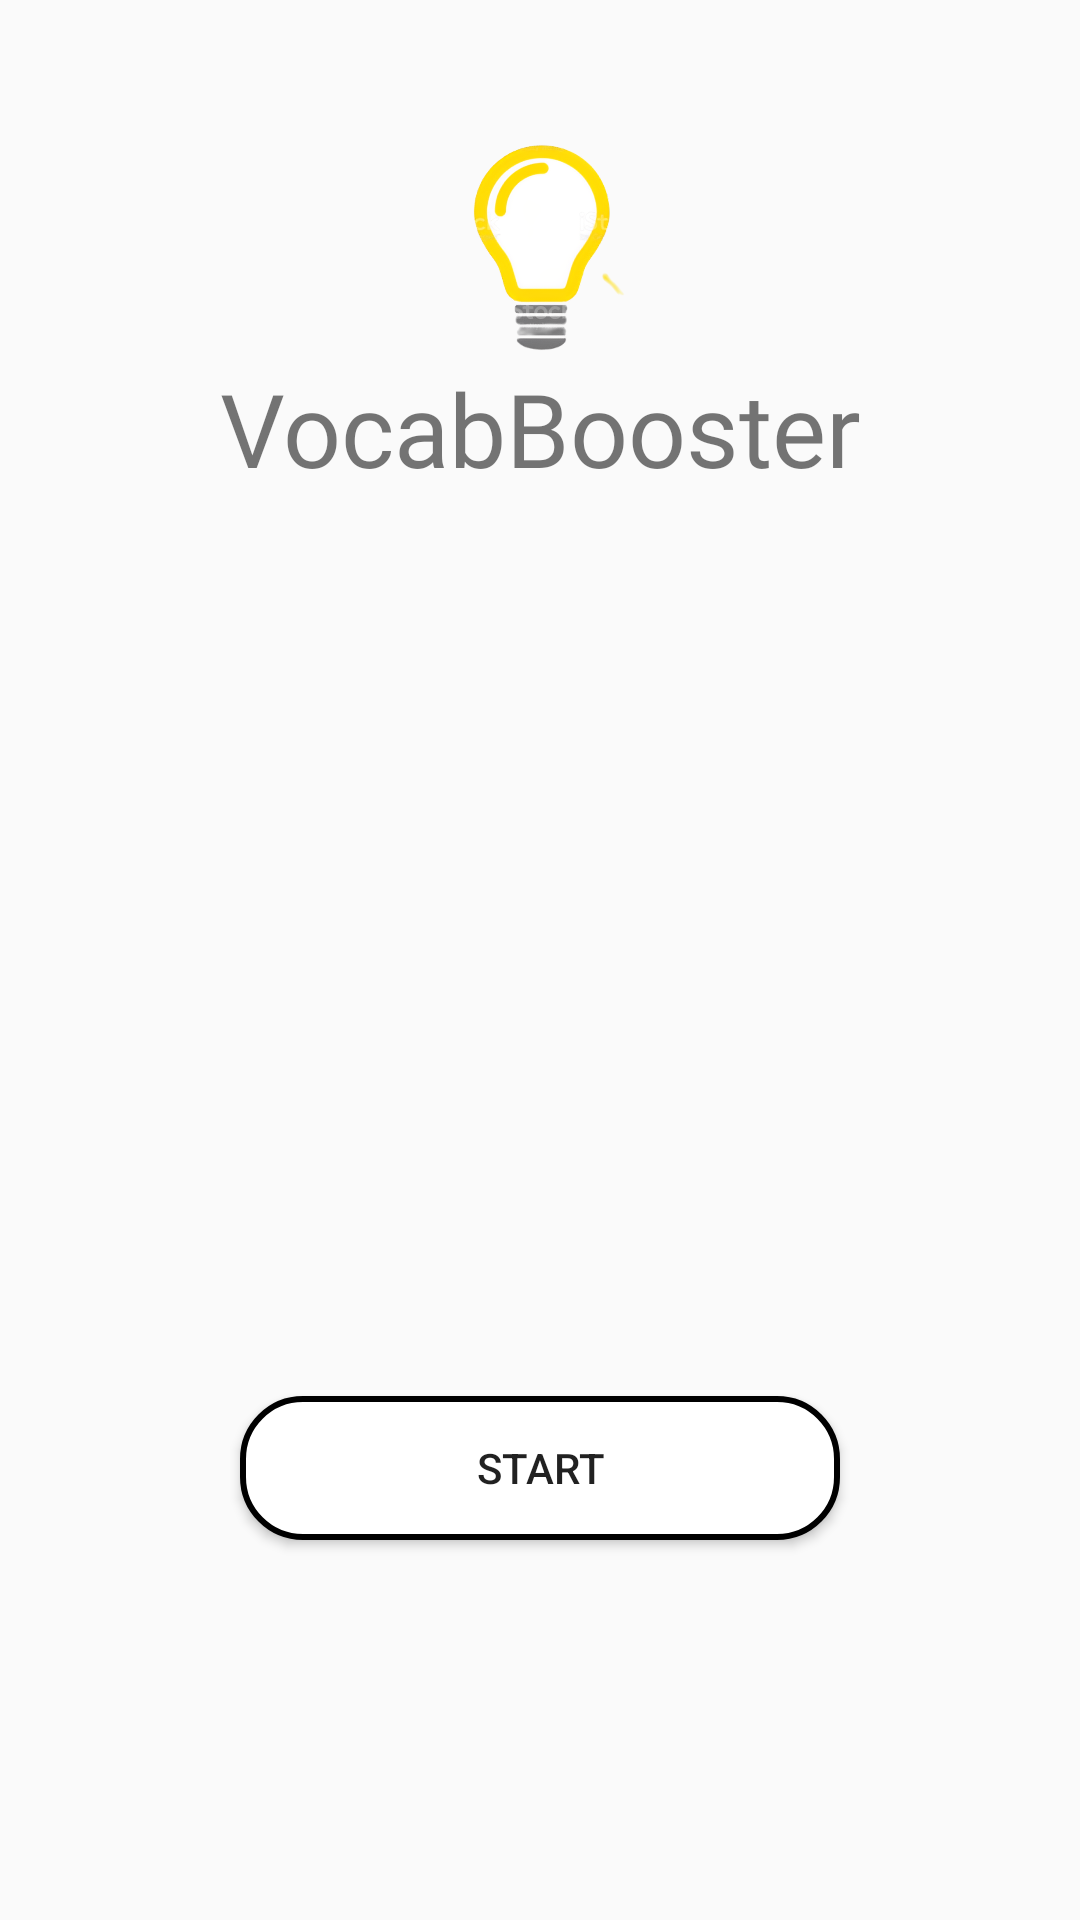

Named icons in this screenshot (1080px×1920px) and their centers, [x,y]:
bongden: [548,247]
